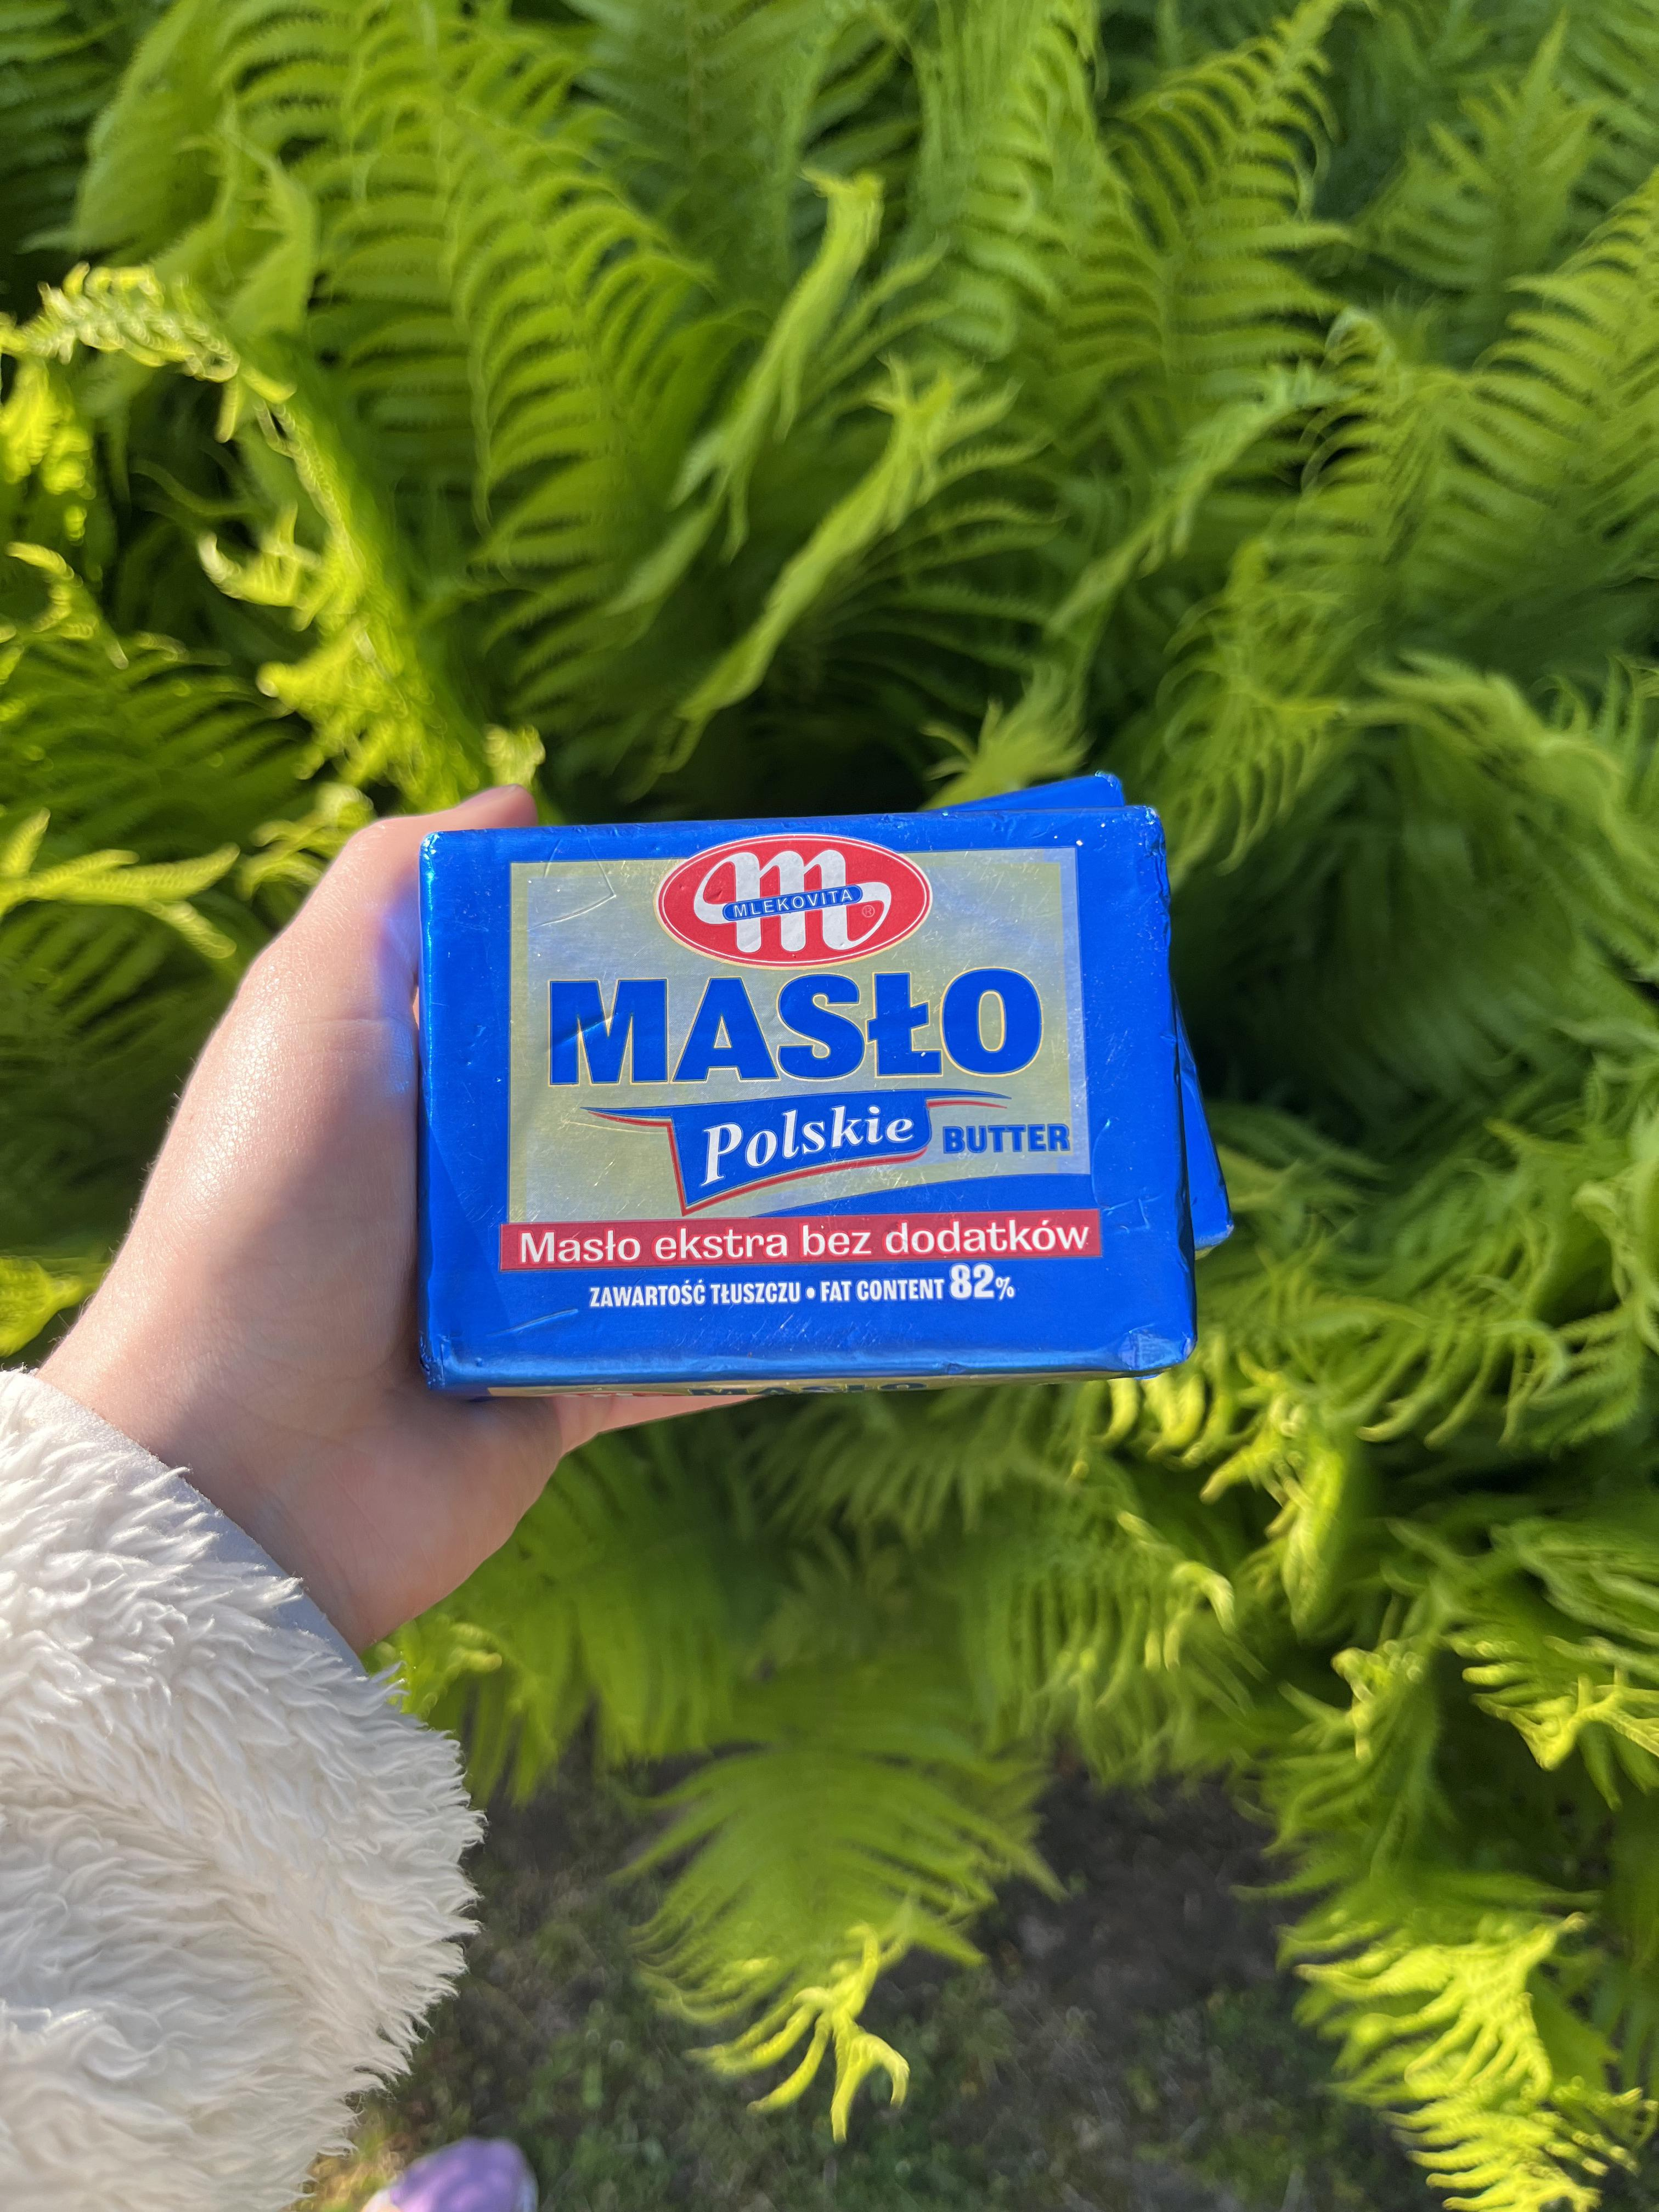Butter: (425, 826, 1188, 1364)
